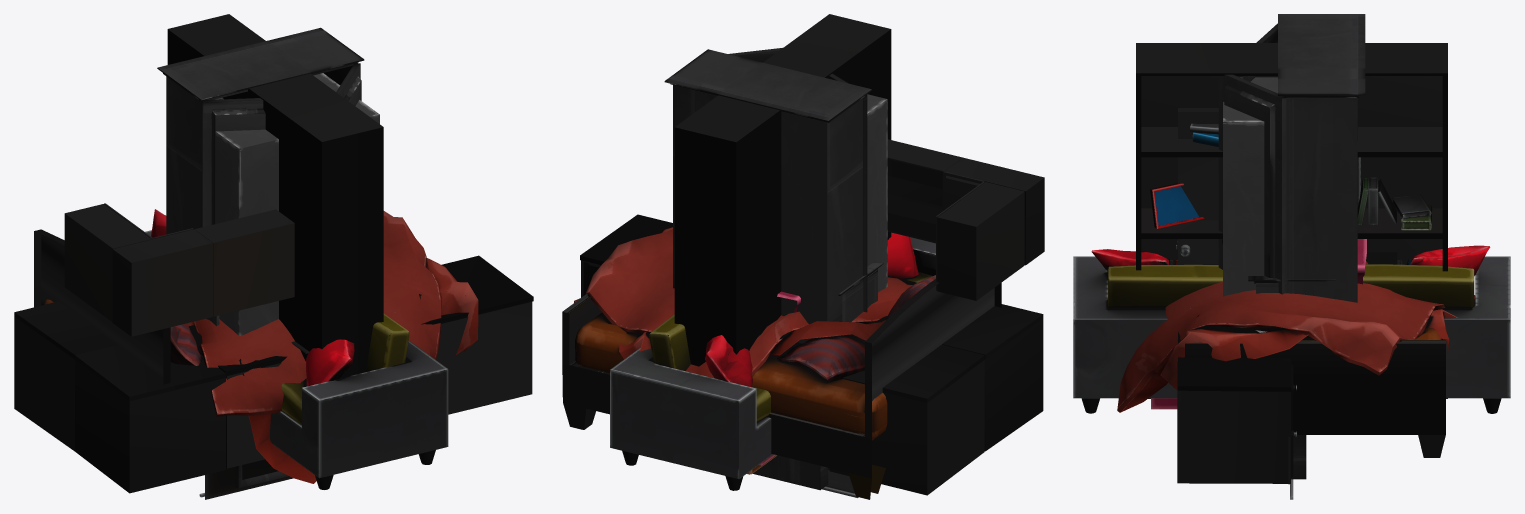
File: Bulk.FBX
3 views of the same model, side by side, from view 1: azimuth 30°, elevation 25°; view 2: azimuth 150°, elevation 25°; view 3: azimuth 270°, elevation 25° (orthographic).
Visible parts, largest first — view 1: RE_RKitchenCounter, RE_RLivingBShelf, RE_RBedBed, RE_RLivingCouch, RE_RBedShelf, RE_RKitchenFridge, RE_CellWindows; view 2: RE_RKitchenCounter, RE_RBedBed, RE_RLivingBShelf, RE_RBedShelf, RE_RLivingCouch, RE_RKitchenFridge, RE_RBathMedCab, RE_RBedShelfS, RE_CellWindows; view 3: RE_RLivingBShelf, RE_RBedBed, RE_RBedShelf, RE_RLivingCouch, RE_RKitchenCounter, RE_RKitchenFridge, RE_CellDoor00, RE_RBathMedCab, RE_RBedShelfS.
Boxes of the visible parts, bbox=[...] form: RE_RKitchenCounter: bbox=[14, 203, 533, 493]; RE_RLivingBShelf: bbox=[167, 14, 383, 378]; RE_RBedBed: bbox=[34, 211, 478, 483]; RE_RLivingCouch: bbox=[145, 209, 448, 489]; RE_RBedShelf: bbox=[157, 27, 364, 234]; RE_RKitchenFridge: bbox=[215, 73, 379, 335]; RE_CellWindows: bbox=[199, 459, 293, 499]; RE_RKitchenCounter: bbox=[580, 139, 1044, 495]; RE_RBedBed: bbox=[562, 227, 1001, 499]; RE_RLivingBShelf: bbox=[674, 14, 891, 366]; RE_RBedShelf: bbox=[664, 48, 871, 343]; RE_RLivingCouch: bbox=[610, 232, 935, 490]; RE_RKitchenFridge: bbox=[867, 94, 887, 292]; RE_RBathMedCab: bbox=[753, 455, 828, 490]; RE_RBedShelfS: bbox=[838, 261, 883, 322]; RE_CellWindows: bbox=[822, 470, 858, 497]; RE_RLivingBShelf: bbox=[1136, 43, 1447, 398]; RE_RBedBed: bbox=[1117, 261, 1475, 457]; RE_RBedShelf: bbox=[1218, 14, 1365, 302]; RE_RLivingCouch: bbox=[1073, 245, 1510, 413]; RE_RKitchenCounter: bbox=[1177, 308, 1296, 484]; RE_RKitchenFridge: bbox=[1223, 77, 1360, 296]; RE_CellDoor00: bbox=[1176, 108, 1218, 264]; RE_RBathMedCab: bbox=[1291, 435, 1306, 479]; RE_RBedShelfS: bbox=[1248, 276, 1335, 293].
Bounding box in the file's own units: 196 × 187 × 181.
8 materials, 8 textured.
